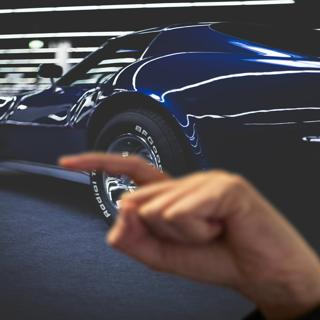WHY: (44, 140, 317, 305)
